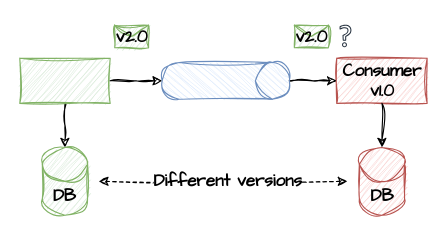
Image size: 447x235. Some labels were removed from this diagram. The box of each missing label's shape, as (x1, y1, x2, y2) in pixels:
Backbone: (161, 61, 289, 99)
Producer v2.0: (19, 57, 110, 103)
